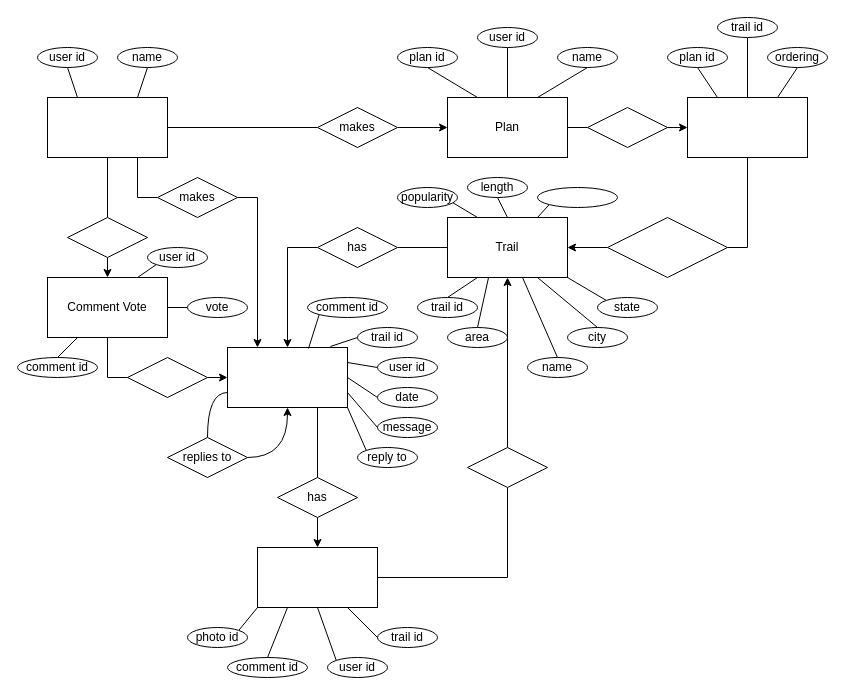
Some shapes in this 845 by 695 pixel diagram are drawn without their labels. The box of each missing label's shape, as (x1, y1, x2, y2) in pixels:
applies to: (126, 356, 208, 398)
Comment: (226, 346, 348, 408)
elevation gain: (536, 186, 618, 208)
includes: (586, 106, 668, 148)
is an entry for a: (606, 216, 728, 278)
is of: (466, 446, 548, 488)
Photo: (256, 546, 378, 608)
Plan Item: (686, 96, 808, 158)
User: (46, 96, 168, 158)
votes: (66, 216, 148, 258)
